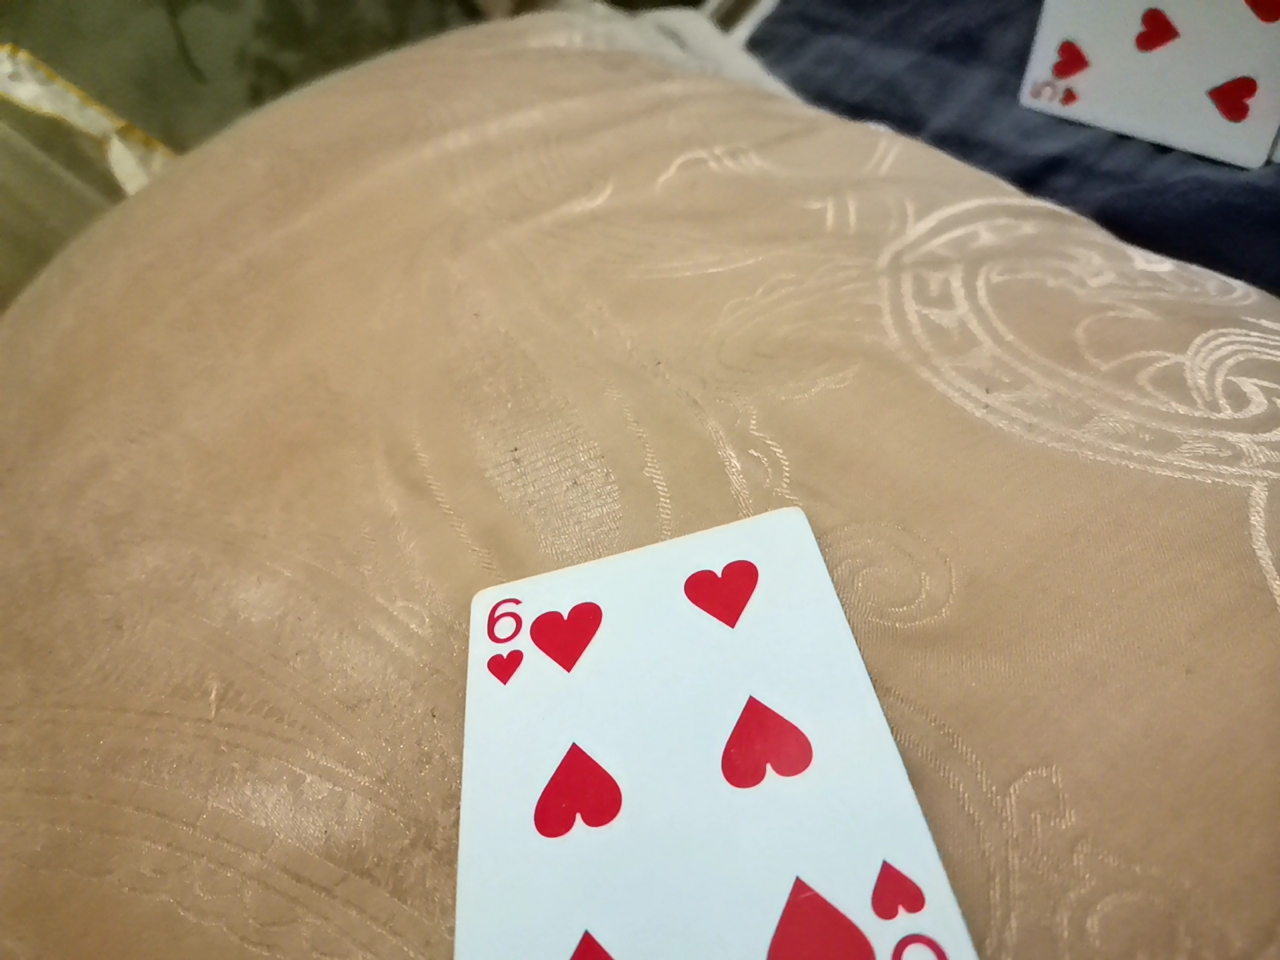hx 6: (459, 489, 984, 960)
